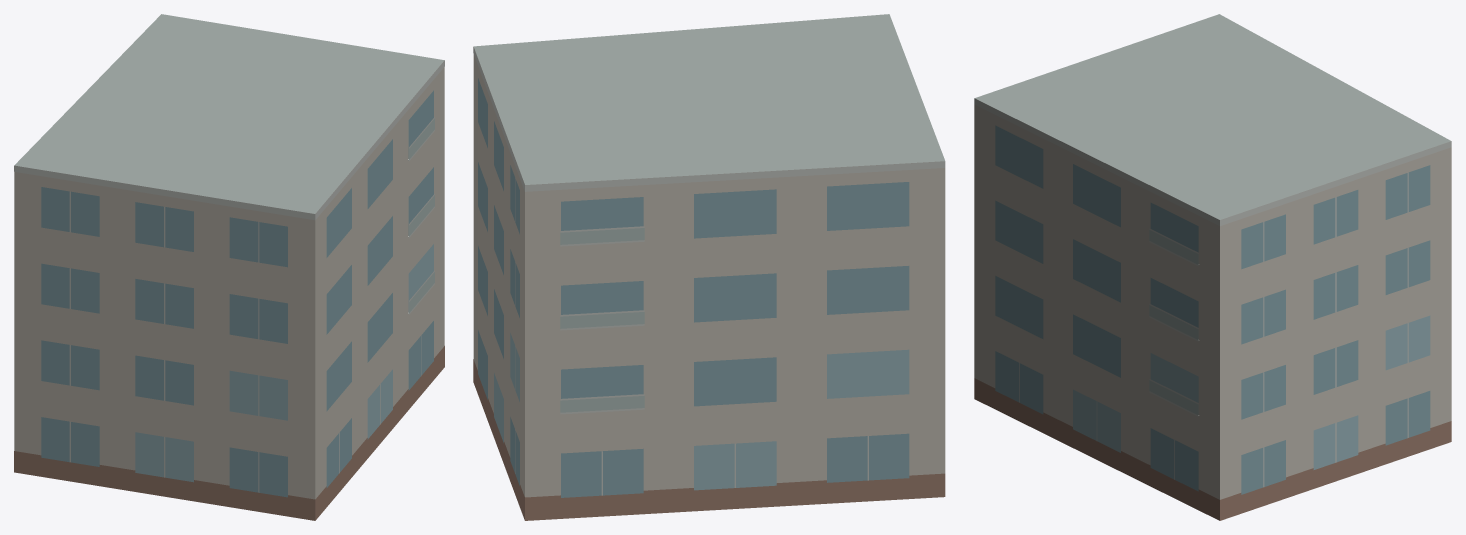
Rendered from survey-upis-32641350.glb.
3 renders of one model, left to right at view 1: azimuth 30°, elevation 25°; view 2: azimuth 150°, elevation 25°; view 3: azimuth 270°, elevation 25°, orthographic. The views are drawn at different scales.
Parts seen in each view (by area): view 1: survey-upis-32641350.tmp; view 2: survey-upis-32641350.tmp; view 3: survey-upis-32641350.tmp.
Part boxes in pixels (x1,y1,x2,y2): survey-upis-32641350.tmp: (14, 14, 444, 520); survey-upis-32641350.tmp: (473, 14, 945, 520); survey-upis-32641350.tmp: (974, 14, 1451, 520).
Size of the model in its own units: 17.64 by 12 by 17.26.
